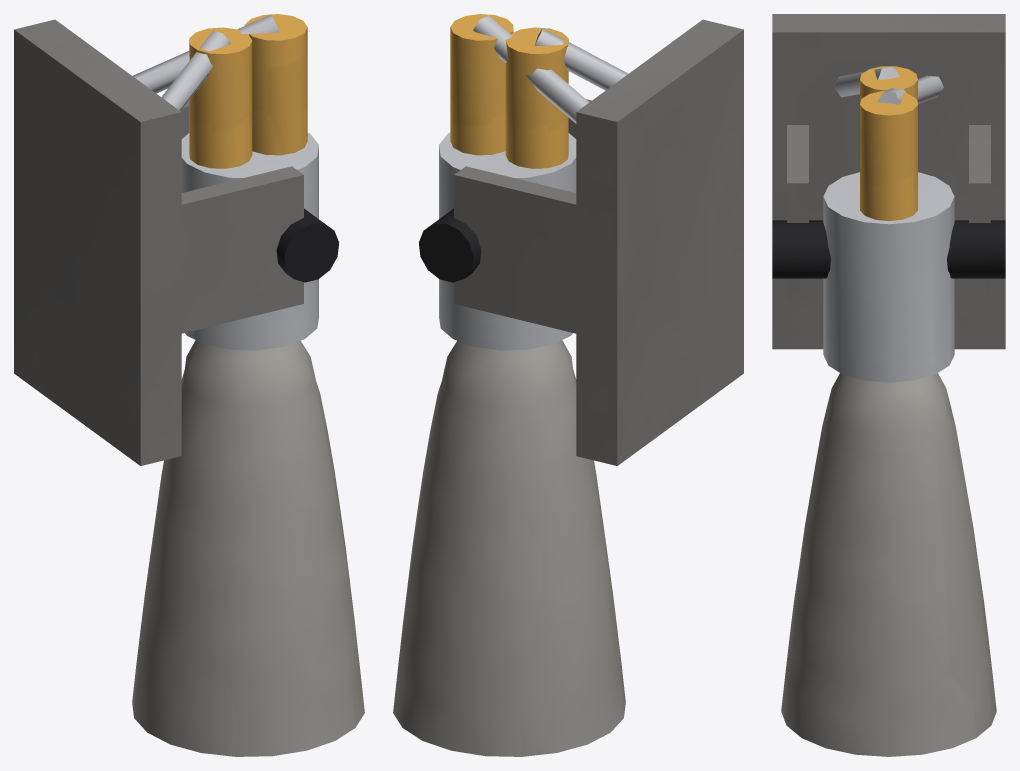
Rendered from prop17_vernier.glb.
The picture shows the model from 3 angles, left to right: view 1: azimuth 30°, elevation 25°; view 2: azimuth 150°, elevation 25°; view 3: azimuth 270°, elevation 25°; orthographic projection. The views are drawn at different scales.
Parts seen in each view (by area): view 1: bracket, nozzle_bell, nozzle_valves, nozzle_chamber, feed_lines, swivel_axle; view 2: bracket, nozzle_bell, nozzle_valves, nozzle_chamber, feed_lines, swivel_axle; view 3: nozzle_bell, bracket, nozzle_chamber, nozzle_valves, swivel_axle, feed_lines.
Boxes of the visible parts, <box> form: bracket: <box>14,19,303,465</box>; nozzle_bell: <box>132,340,364,756</box>; nozzle_valves: <box>189,14,307,168</box>; nozzle_chamber: <box>181,133,318,350</box>; feed_lines: <box>133,14,279,111</box>; swivel_axle: <box>276,208,338,282</box>; bracket: <box>454,19,743,465</box>; nozzle_bell: <box>393,340,625,756</box>; nozzle_valves: <box>450,14,568,168</box>; nozzle_chamber: <box>439,133,576,350</box>; feed_lines: <box>473,15,628,123</box>; swivel_axle: <box>419,208,481,282</box>; nozzle_bell: <box>781,373,996,756</box>; bracket: <box>772,14,1005,349</box>; nozzle_chamber: <box>823,172,954,382</box>; nozzle_valves: <box>860,66,917,220</box>; swivel_axle: <box>772,220,1005,278</box>; feed_lines: <box>834,66,943,104</box>.
Bounding box in the file's own units: 0.199 × 0.4776 × 0.16.
Materials: 5 (4 with a texture image).
